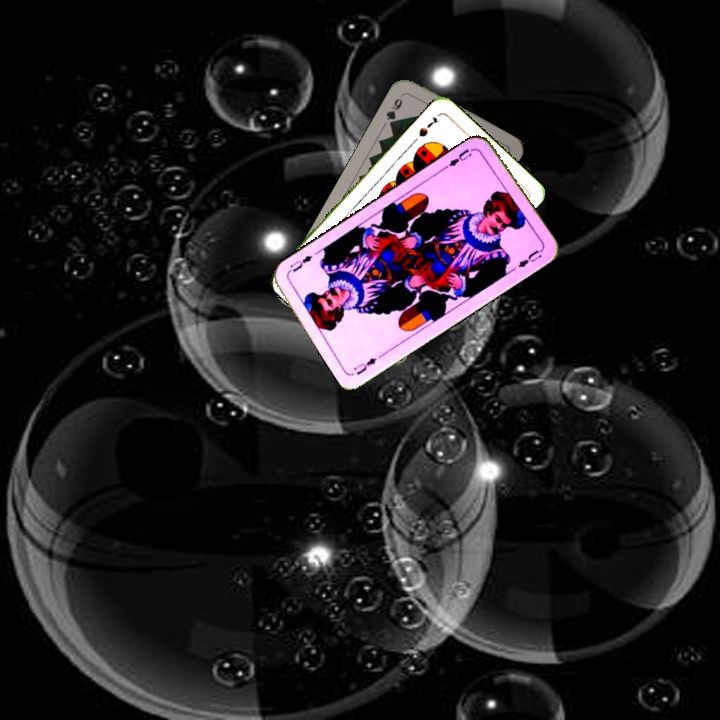EU: (441, 144, 477, 171), (349, 354, 379, 378)
G9: (382, 90, 406, 130)
S7: (415, 113, 442, 140)
